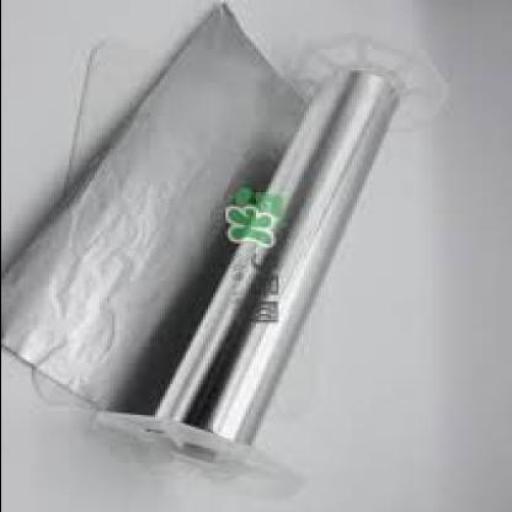metal: (2, 2, 402, 448)
